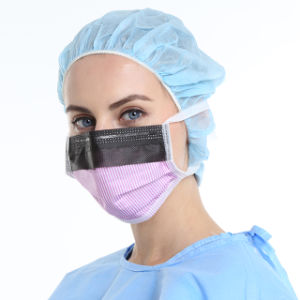with_mask_and_cap: (66, 11, 205, 226)
